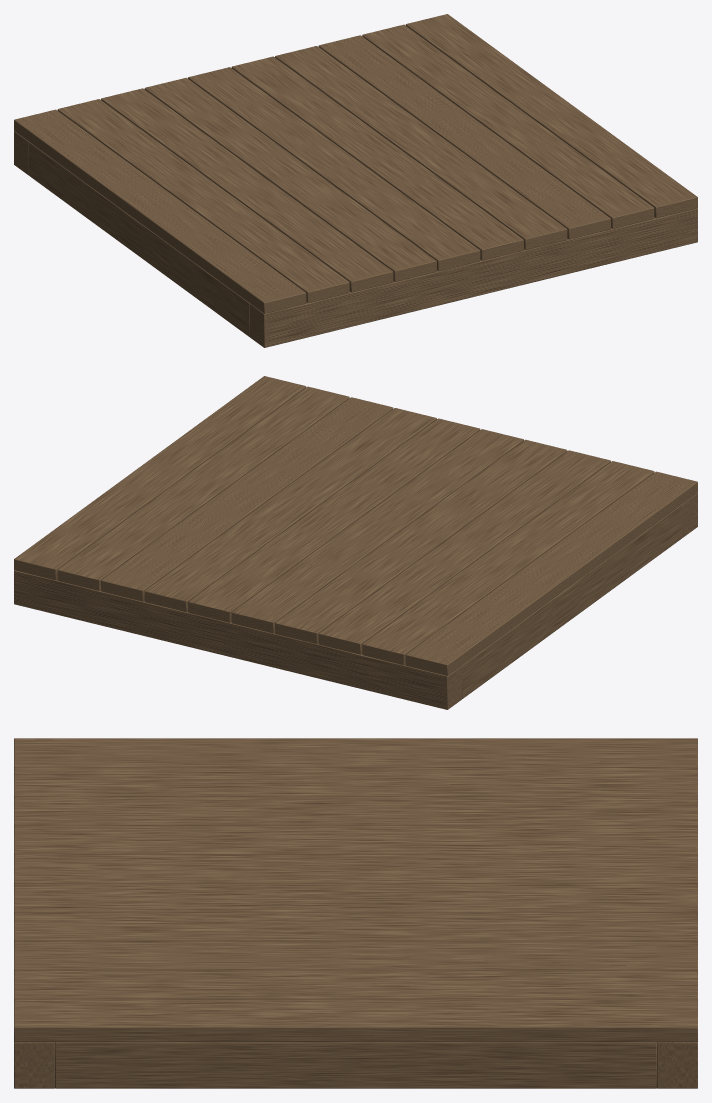
Rendered from wood-foundation.glb.
3 views of the same model, one above another, from view 1: azimuth 30°, elevation 25°; view 2: azimuth 150°, elevation 25°; view 3: azimuth 270°, elevation 25° (orthographic). The views are drawn at different scales.
Parts seen in each view (by area): view 1: foundation_wood__deck, foundation_wood__frame; view 2: foundation_wood__deck, foundation_wood__frame; view 3: foundation_wood__deck, foundation_wood__frame.
Boxes of the visible parts, left/top/right/bottom form: foundation_wood__deck: left=14, top=14, right=697, bottom=313; foundation_wood__frame: left=14, top=131, right=697, bottom=347; foundation_wood__deck: left=14, top=376, right=697, bottom=675; foundation_wood__frame: left=14, top=493, right=697, bottom=709; foundation_wood__deck: left=14, top=738, right=697, bottom=1042; foundation_wood__frame: left=14, top=1042, right=697, bottom=1088.
Size of the model in its own units: 2 by 0.2 by 2.
1 material, 1 textured.
